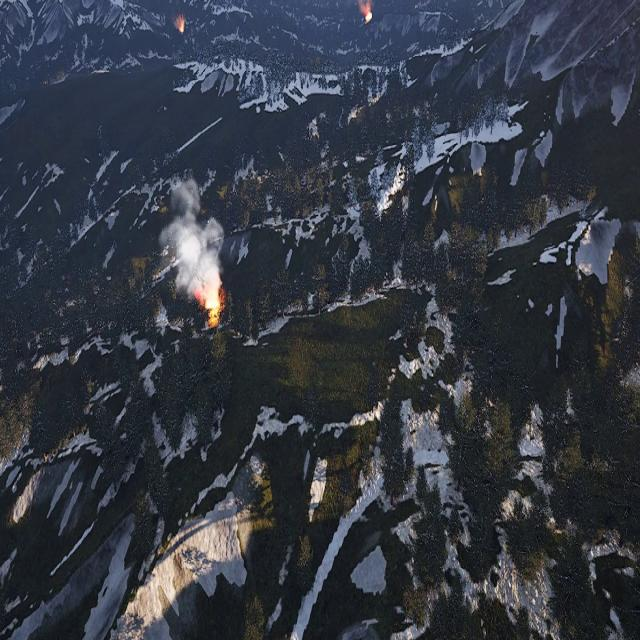fire: (201, 279, 223, 324), (362, 5, 371, 23), (177, 17, 185, 34)
smoke: (162, 178, 229, 298)
